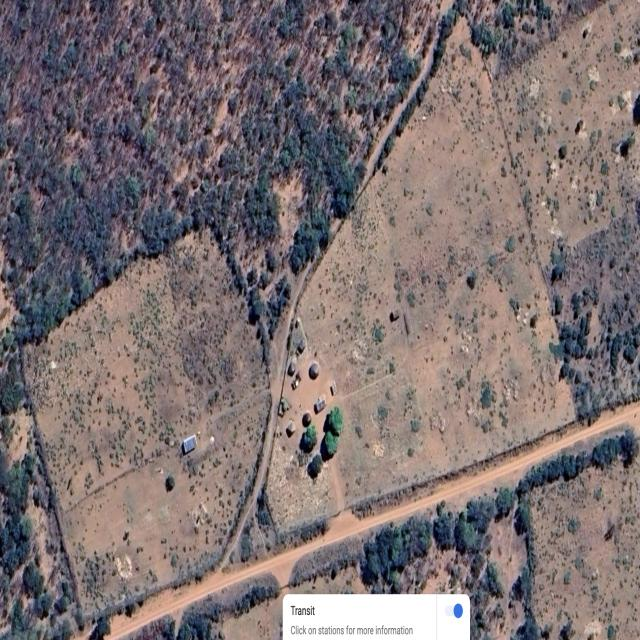boundaries: (80, 396, 637, 640), (267, 20, 449, 395), (78, 325, 274, 640), (362, 420, 640, 589), (480, 65, 577, 402), (12, 201, 219, 355), (4, 342, 93, 640), (202, 202, 270, 346)
